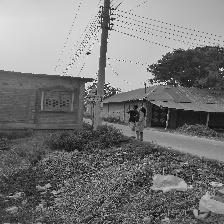Side-road-left: (89, 86, 100, 99)
